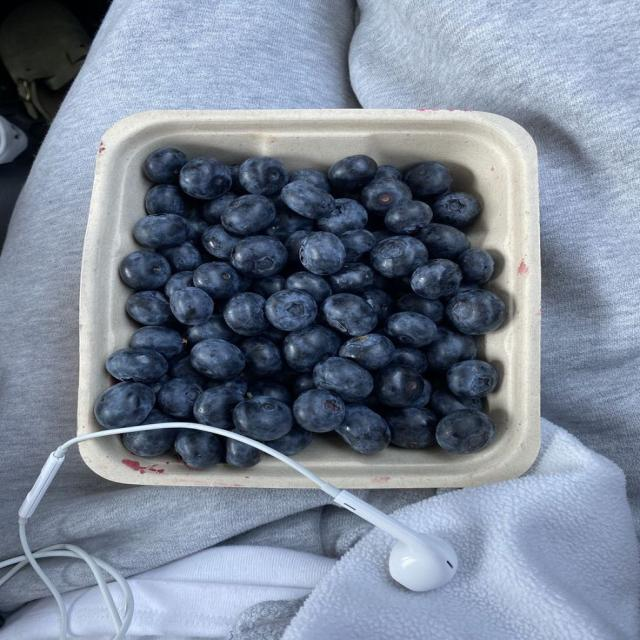blueberry: (94, 383, 155, 428), (446, 290, 506, 334), (233, 397, 293, 441), (314, 357, 373, 401), (336, 405, 390, 453), (283, 325, 339, 371), (436, 410, 494, 453), (425, 327, 477, 372), (370, 236, 427, 277), (322, 294, 378, 335), (221, 194, 275, 236), (231, 236, 286, 277), (293, 389, 345, 432), (190, 339, 245, 379), (375, 366, 427, 407), (265, 290, 317, 331), (180, 158, 231, 199), (107, 348, 168, 382), (194, 387, 243, 429), (280, 181, 334, 219), (387, 408, 438, 448), (174, 429, 224, 469), (120, 251, 171, 290), (300, 232, 346, 275), (411, 260, 461, 299), (134, 214, 190, 248), (447, 360, 498, 397), (339, 335, 394, 369), (239, 157, 288, 195), (193, 262, 242, 300), (263, 205, 313, 242), (418, 224, 469, 260), (223, 293, 266, 335), (317, 199, 367, 235), (361, 179, 412, 214), (404, 162, 453, 198), (157, 379, 202, 418), (386, 312, 436, 347), (130, 326, 184, 358), (328, 155, 378, 189), (433, 192, 480, 228), (239, 337, 282, 376), (170, 287, 213, 325), (126, 291, 174, 325), (385, 201, 433, 234), (187, 315, 239, 345), (144, 147, 187, 183), (122, 429, 179, 456), (430, 388, 482, 416), (396, 293, 444, 323), (286, 272, 332, 303), (158, 242, 203, 273), (327, 263, 373, 293), (201, 224, 239, 260), (268, 426, 313, 456), (207, 371, 250, 401), (146, 184, 186, 215), (458, 250, 494, 283), (340, 229, 376, 262), (201, 193, 238, 225), (246, 380, 291, 404), (170, 356, 206, 386), (226, 438, 263, 467), (361, 290, 393, 322), (289, 168, 330, 192), (389, 348, 427, 373), (184, 210, 209, 247), (286, 230, 313, 264), (442, 282, 479, 305), (165, 271, 193, 298), (254, 276, 286, 298), (360, 394, 388, 415), (412, 380, 433, 407), (293, 372, 316, 396), (229, 164, 246, 194), (262, 325, 288, 344), (147, 374, 171, 394), (374, 272, 397, 292), (375, 166, 401, 180), (373, 229, 396, 242)
